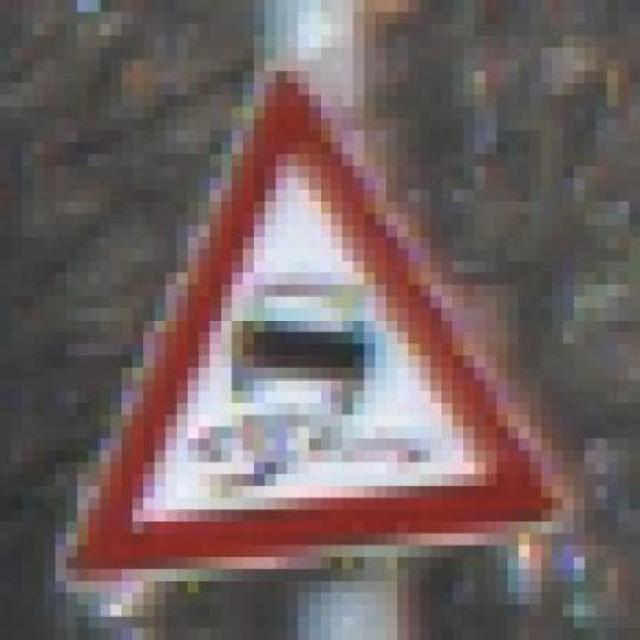Slippery Road Ahead: (43, 58, 574, 570)
